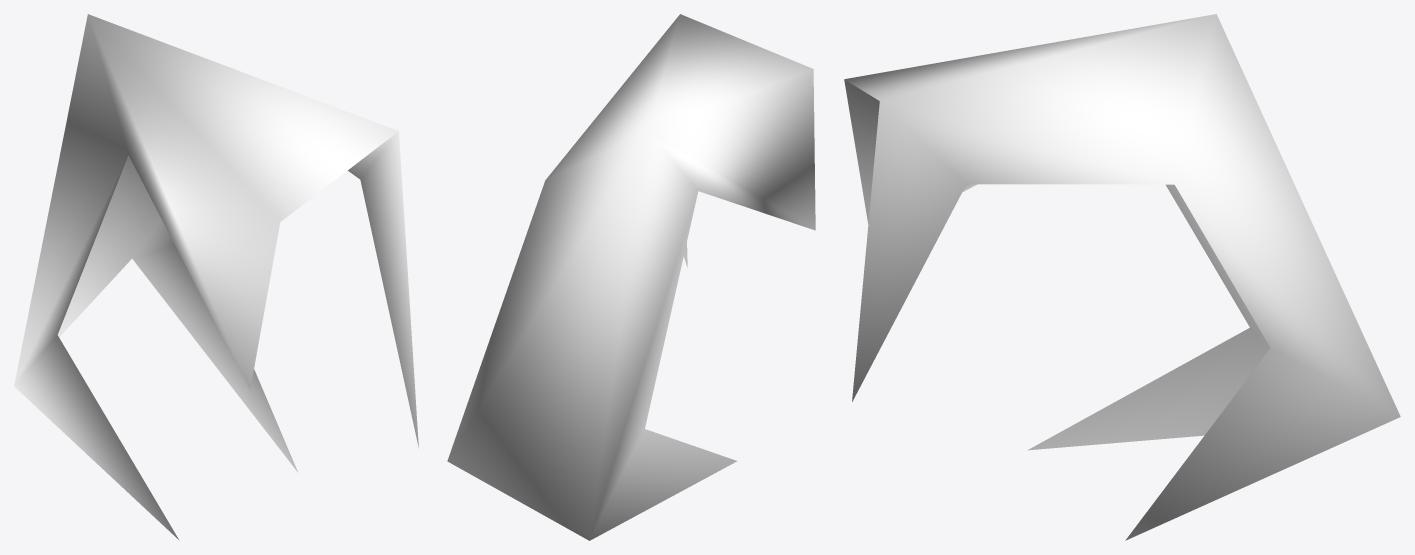
3 views of the same model, side by side, from view 1: azimuth 30°, elevation 25°; view 2: azimuth 150°, elevation 25°; view 3: azimuth 270°, elevation 25° (orthographic). The views are drawn at different scales.
Size of the model in its own units: 0.1957 by 0.4835 by 0.5423.
1 material, 1 textured.
